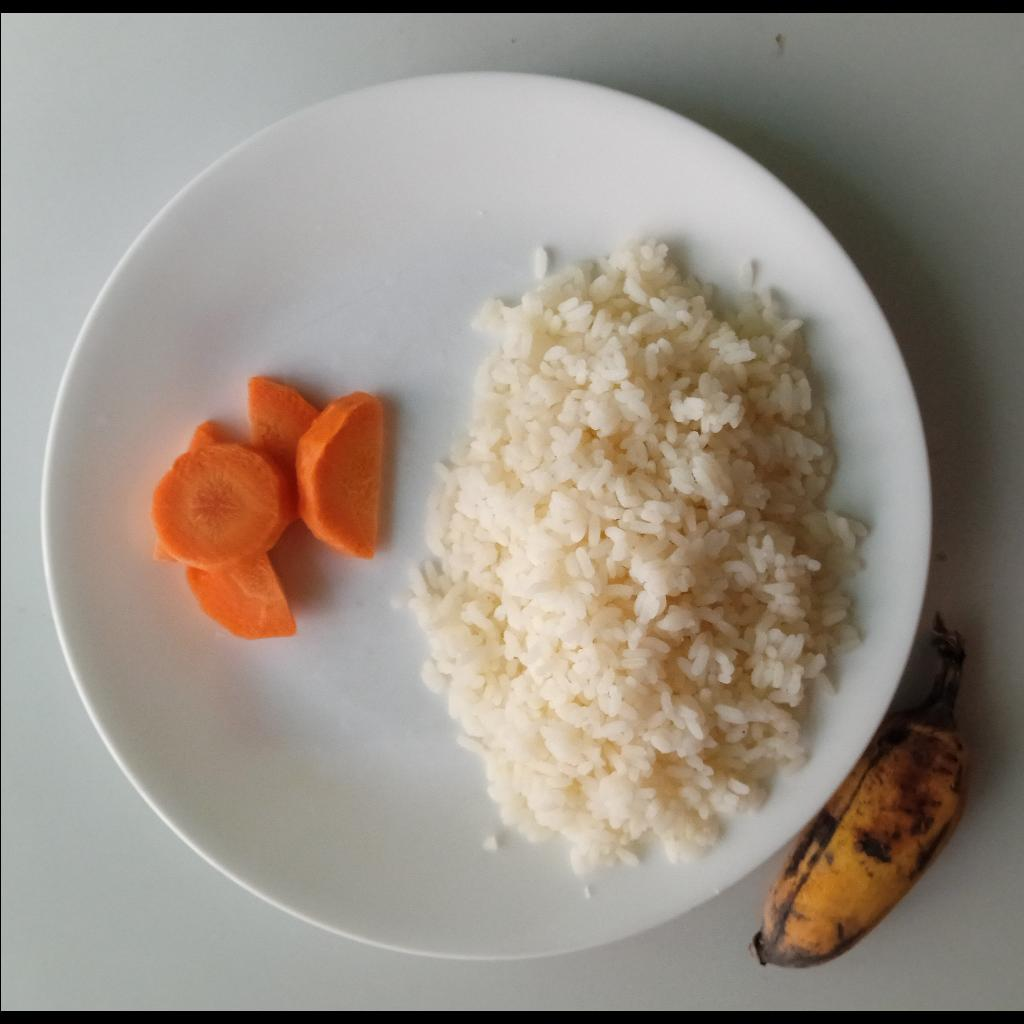banana: (747, 617, 971, 972)
carrot: (148, 377, 381, 642)
rice: (399, 241, 875, 874)
